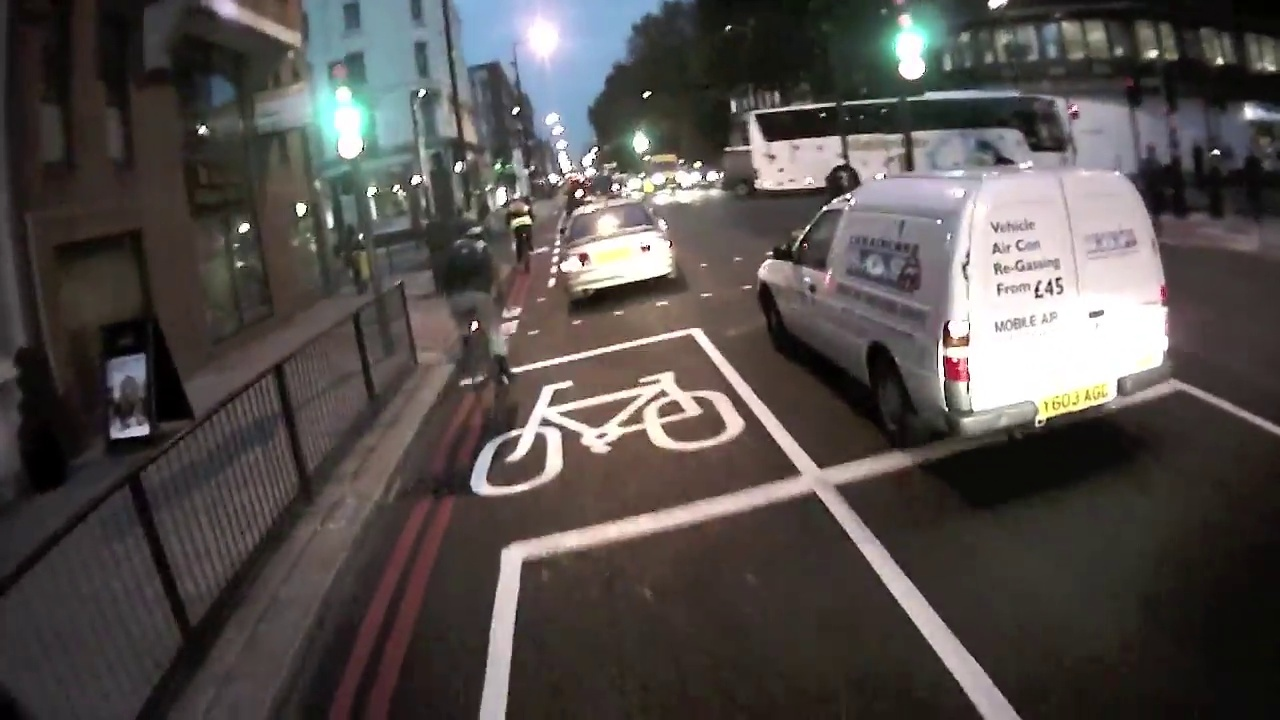cyclist_back: (448, 216, 530, 462), (502, 193, 545, 280)
